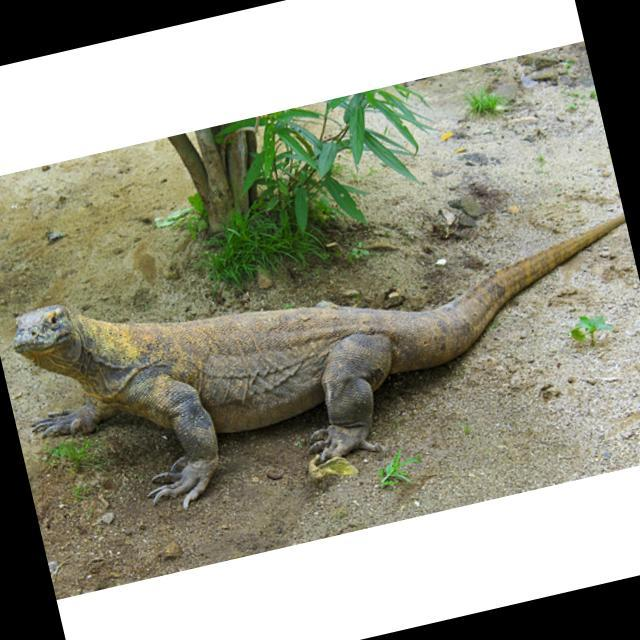KomodoDragon: (5, 174, 640, 543)
